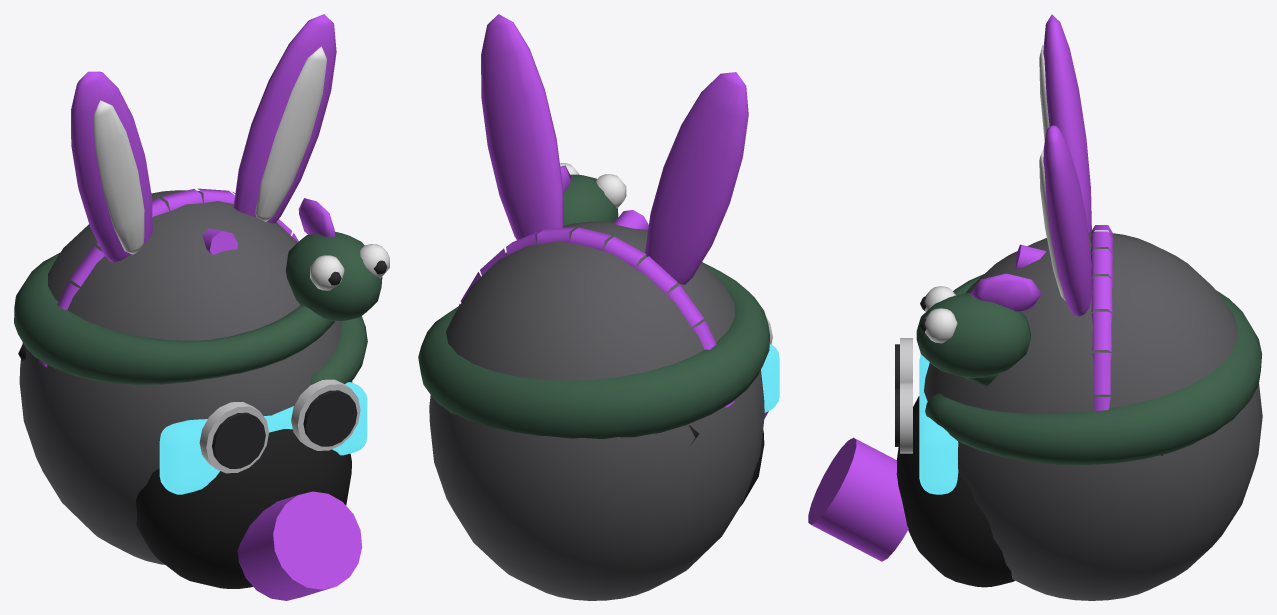
The model's file is club_hats_b.glb.
The picture shows the model from 3 angles, left to right: view 1: azimuth 30°, elevation 25°; view 2: azimuth 150°, elevation 25°; view 3: azimuth 270°, elevation 25°; orthographic projection. The views are drawn at different scales.
Parts seen in each view (by area): view 1: HAT_ledhelm_Plastic, HAT_aalmuetze_Eel, HAT_hasenohren_Accent, HAT_gasmaske_Rubber, HAT_gasmaske_Accent, HAT_hasenohren_White, HAT_ledhelm_LED, HAT_gasmaske_DustCap, HAT_gasmaske_Steel, HAT_aalmuetze_White, HAT_aalmuetze_Accent, HAT_ledhelm_Accent; view 2: HAT_ledhelm_Plastic, HAT_hasenohren_Accent, HAT_aalmuetze_Eel, HAT_ledhelm_LED, HAT_aalmuetze_White, HAT_ledhelm_Accent; view 3: HAT_ledhelm_Plastic, HAT_aalmuetze_Eel, HAT_hasenohren_Accent, HAT_gasmaske_Rubber, HAT_gasmaske_Accent, HAT_ledhelm_LED, HAT_aalmuetze_Accent, HAT_gasmaske_Steel, HAT_aalmuetze_White, HAT_hasenohren_White.
Boxes of the visible parts, x1,y1,x2,y2 form: HAT_ledhelm_Plastic: (19,190,352,564); HAT_aalmuetze_Eel: (14,231,382,384); HAT_hasenohren_Accent: (39,14,336,367); HAT_gasmaske_Rubber: (18,343,351,588); HAT_gasmaske_Accent: (237,491,362,600); HAT_hasenohren_White: (93,46,326,254); HAT_ledhelm_LED: (159,382,367,494); HAT_gasmaske_DustCap: (212,390,357,468); HAT_gasmaske_Steel: (199,379,360,473); HAT_aalmuetze_White: (310,244,389,290); HAT_aalmuetze_Accent: (298,198,334,237); HAT_ledhelm_Accent: (202,228,238,254); HAT_ledhelm_Plastic: (429,221,764,600); HAT_hasenohren_Accent: (458,14,748,407); HAT_aalmuetze_Eel: (418,174,769,438); HAT_ledhelm_LED: (761,344,779,412); HAT_aalmuetze_White: (560,163,626,208); HAT_ledhelm_Accent: (613,210,648,229); HAT_ledhelm_Plastic: (924,232,1262,600); HAT_aalmuetze_Eel: (916,274,1262,465); HAT_hasenohren_Accent: (1043,14,1113,411); HAT_gasmaske_Rubber: (896,396,1162,587); HAT_gasmaske_Accent: (808,437,908,561); HAT_ledhelm_LED: (919,354,958,494); HAT_aalmuetze_Accent: (970,273,1041,311); HAT_gasmaske_Steel: (900,338,912,453); HAT_aalmuetze_White: (925,286,957,343); HAT_hasenohren_White: (1039,44,1065,300).
Size of the model in its own units: 0.2136 by 0.3507 by 0.2792.
